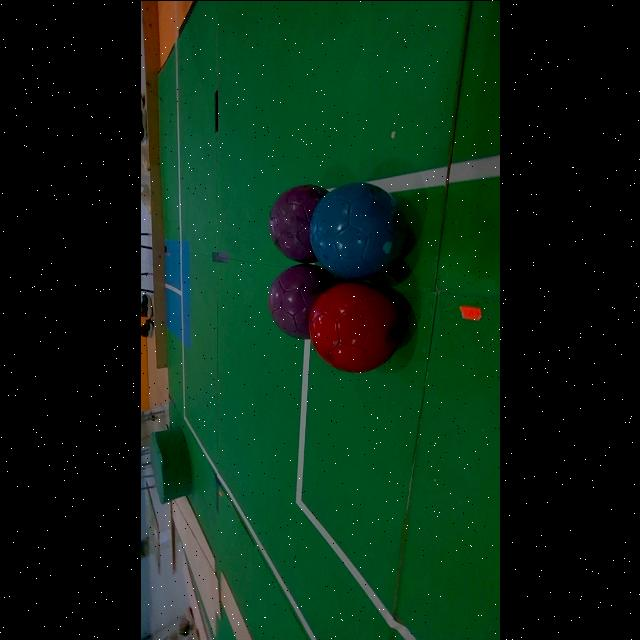B: (310, 182, 407, 279)
P: (267, 264, 335, 340), (268, 184, 327, 262)
R: (308, 280, 401, 373)
